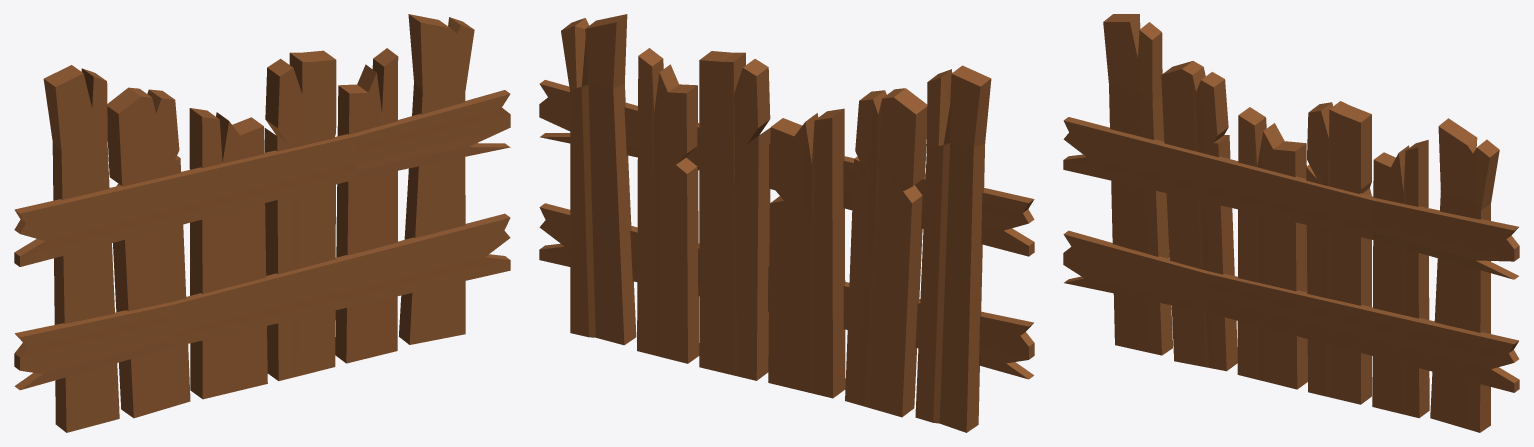
Rendered from Wooden_Fence.fbx.
3 views of the same model, side by side, from view 1: azimuth 30°, elevation 25°; view 2: azimuth 150°, elevation 25°; view 3: azimuth 330°, elevation 25° (orthographic). The views are drawn at different scales.
Visible parts, largest first — view 1: Cube.006, Cube.007, Cube.003, Cube.005, Cube.004, Cube.002, Cube.001, Cube; view 2: Cube.003, Cube.005, Cube.004, Cube.002, Cube.001, Cube, Cube.006, Cube.007; view 3: Cube.006, Cube.007, Cube.005, Cube.004, Cube.003, Cube.002, Cube.001, Cube.
Part boxes in pixels (x1=…): Cube.006: x1=14, y1=90, x2=510, y2=266; Cube.007: x1=14, y1=213, x2=510, y2=390; Cube.003: x1=264, y1=50, x2=336, y2=381; Cube.005: x1=107, y1=87, x2=190, y2=418; Cube.004: x1=43, y1=65, x2=119, y2=432; Cube.002: x1=189, y1=108, x2=267, y2=399; Cube.001: x1=399, y1=14, x2=474, y2=344; Cube: x1=335, y1=48, x2=398, y2=363; Cube.003: x1=699, y1=51, x2=770, y2=380; Cube.005: x1=845, y1=88, x2=927, y2=417; Cube.004: x1=915, y1=65, x2=991, y2=432; Cube.002: x1=768, y1=108, x2=845, y2=398; Cube.001: x1=561, y1=14, x2=636, y2=345; Cube: x1=637, y1=48, x2=699, y2=363; Cube.006: x1=539, y1=80, x2=1034, y2=256; Cube.007: x1=539, y1=203, x2=1034, y2=379; Cube.006: x1=1063, y1=117, x2=1519, y2=279; Cube.007: x1=1063, y1=230, x2=1519, y2=392; Cube.005: x1=1161, y1=61, x2=1237, y2=371; Cube.004: x1=1103, y1=14, x2=1172, y2=355; Cube.003: x1=1306, y1=101, x2=1371, y2=404; Cube.002: x1=1237, y1=107, x2=1307, y2=389; Cube.001: x1=1430, y1=118, x2=1499, y2=432; Cube: x1=1372, y1=140, x2=1429, y2=418.
Size of the model in its own units: 1025 by 712 by 60.15.
